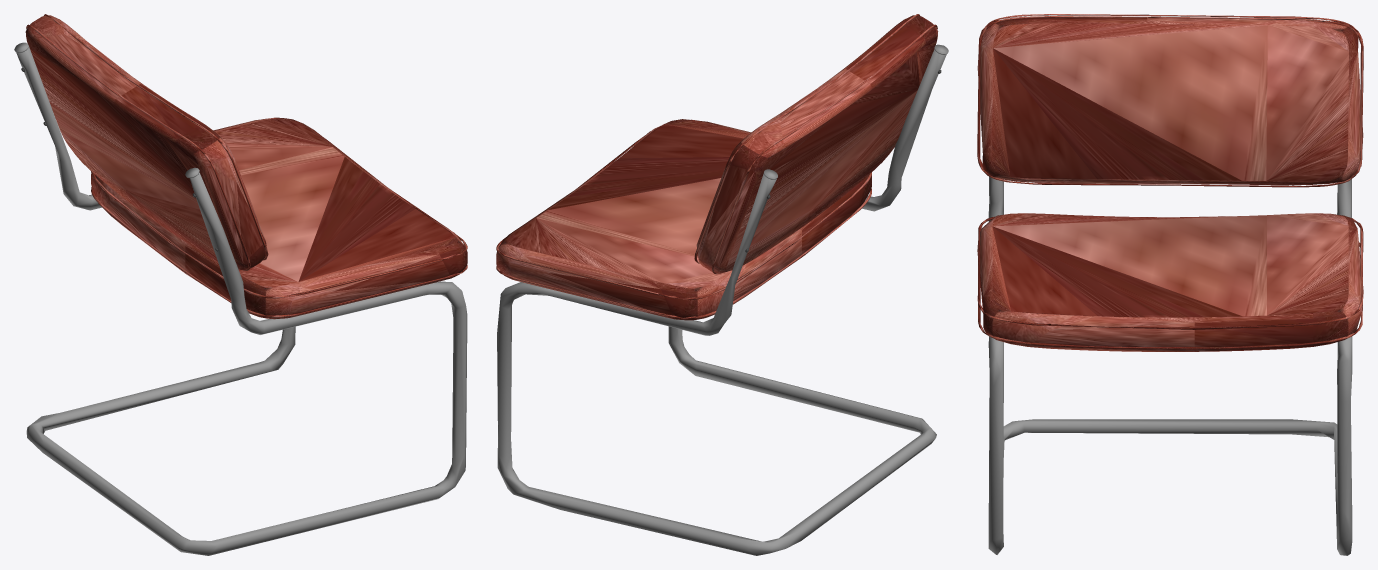
File: chair_optimized.FBX
The picture shows the model from 3 angles, left to right: view 1: azimuth 30°, elevation 25°; view 2: azimuth 150°, elevation 25°; view 3: azimuth 270°, elevation 25°; orthographic projection. The views are drawn at different scales.
Parts seen in each view (by area): view 1: istuin, istuin001, runko; view 2: istuin, istuin001, runko; view 3: istuin001, istuin, runko.
Part boxes in pixels (<box>): istuin: <box>91,117,467,319</box>; istuin001: <box>25,14,268,270</box>; runko: <box>16,46,467,555</box>; istuin: <box>496,119,871,320</box>; istuin001: <box>694,14,938,274</box>; runko: <box>497,49,946,555</box>; istuin001: <box>977,14,1363,187</box>; istuin: <box>977,213,1363,351</box>; runko: <box>988,177,1352,555</box>.
Size of the model in its own units: 20.73 by 28.87 by 23.64.
4 materials, 2 textured.
